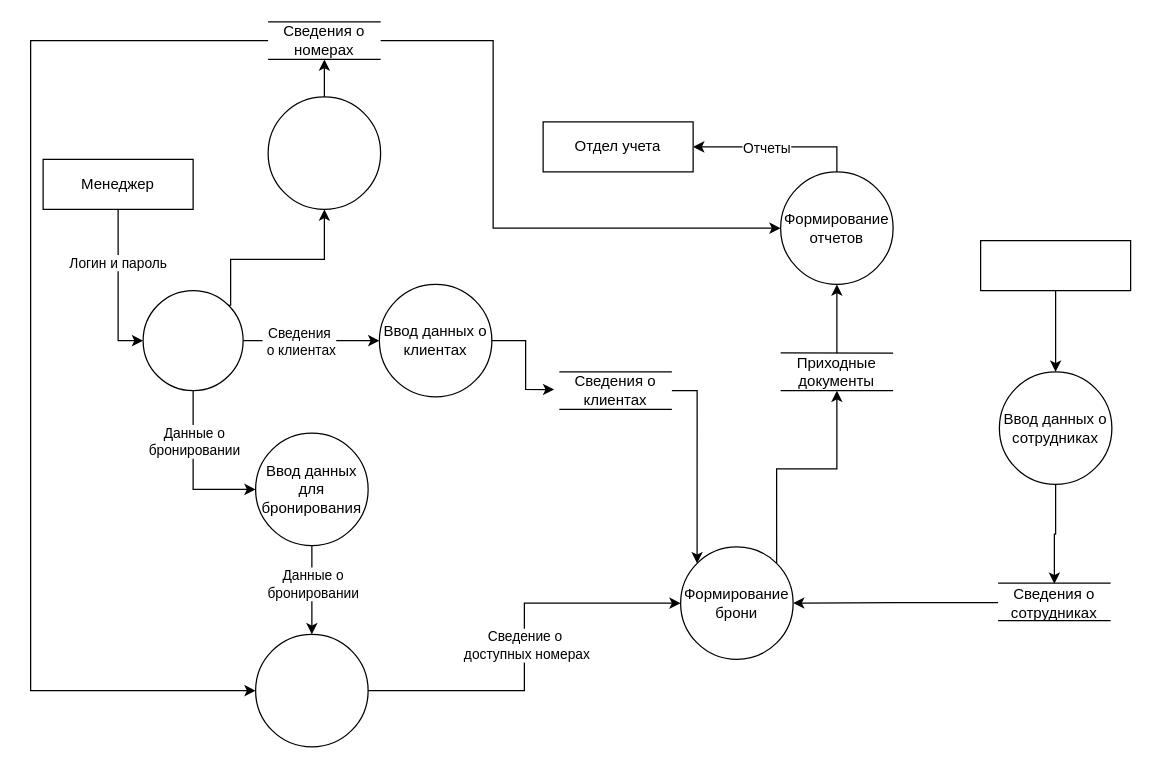
Image size: 1153x769. Some labels were removed from this diagram. Here are the shapes that lost their labels. From the top down, the centre of each, then its label:
At point 324,152: "Ввод сведений о номерах".
At point 1055,265: "Администратор".
At point 192,340: "Авторизация".
At point 311,690: "Определение доступности номеров".
